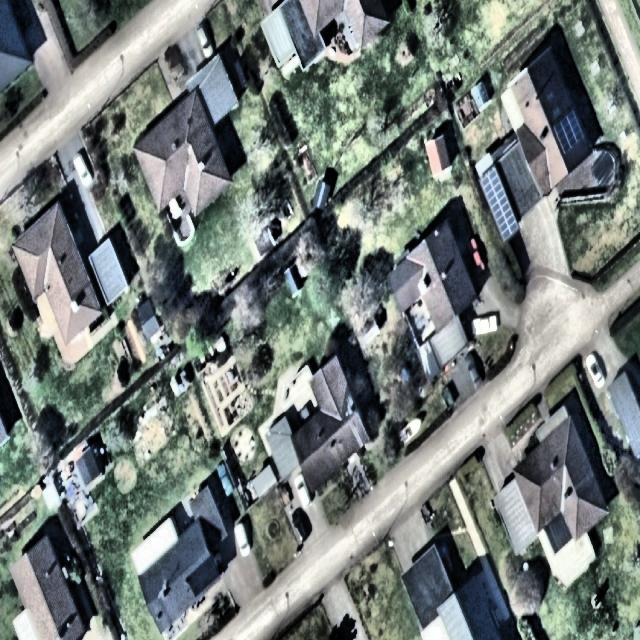roof_pv: (553, 108, 586, 160), (485, 198, 521, 242), (477, 164, 509, 196)
